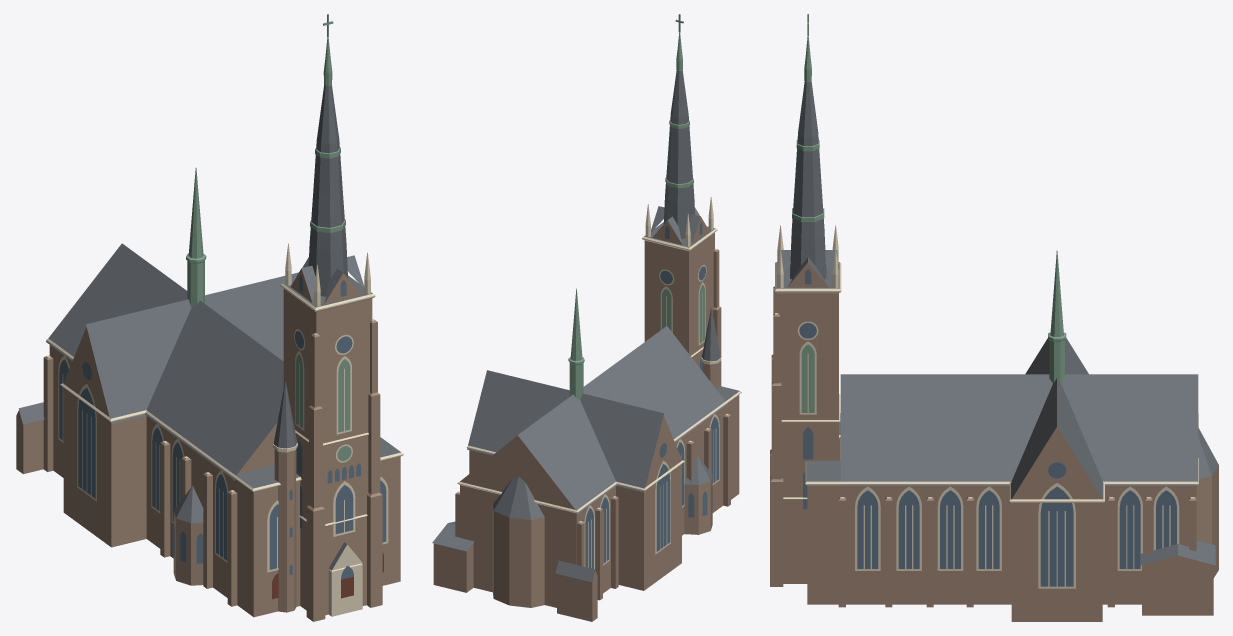
Rendered from stl-st-francis-de-sales.glb.
The picture shows the model from 3 angles, left to right: view 1: azimuth 30°, elevation 25°; view 2: azimuth 150°, elevation 25°; view 3: azimuth 270°, elevation 25°; orthographic projection. The views are drawn at different scales.
Visible parts, largest first — view 1: Oratory of St. Francis de Sales; view 2: Oratory of St. Francis de Sales; view 3: Oratory of St. Francis de Sales.
Boxes of the visible parts, bbox=[...] form: Oratory of St. Francis de Sales: bbox=[16, 14, 403, 621]; Oratory of St. Francis de Sales: bbox=[432, 14, 741, 621]; Oratory of St. Francis de Sales: bbox=[770, 14, 1218, 621].
Size of the model in its own units: 37.5 by 93.6 by 68.4.
